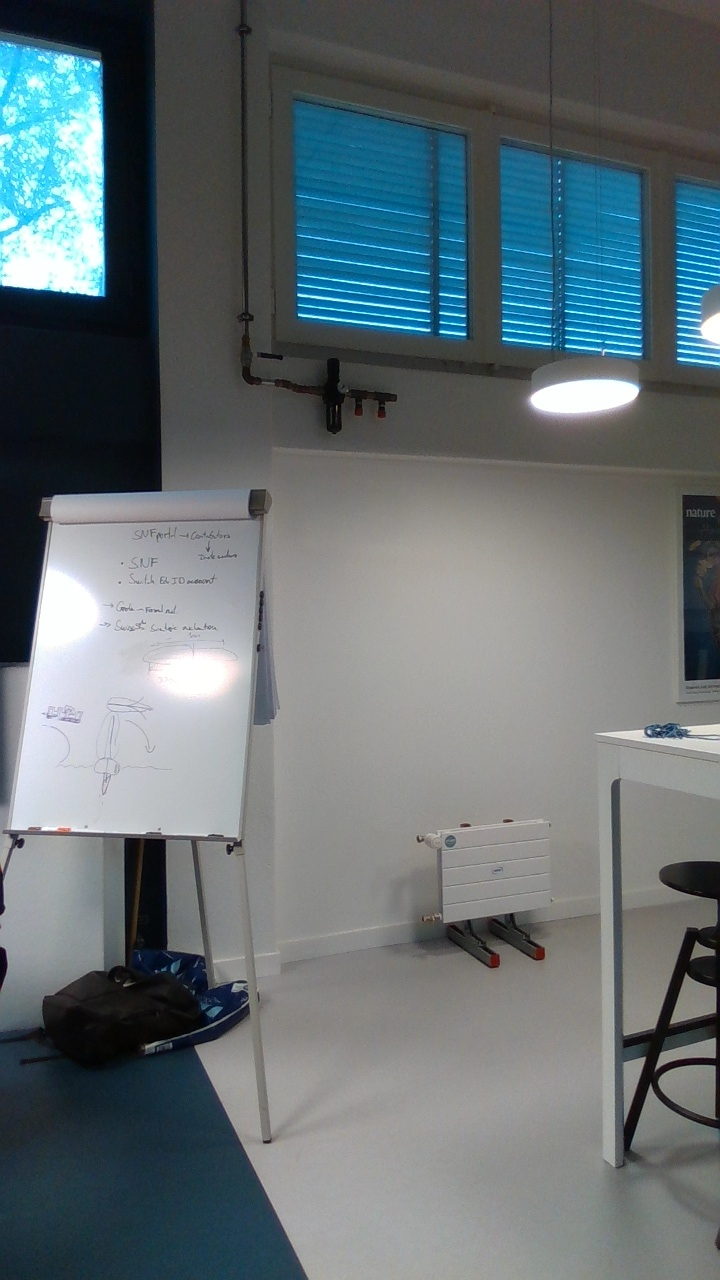Radiator: (431, 819, 557, 921)
